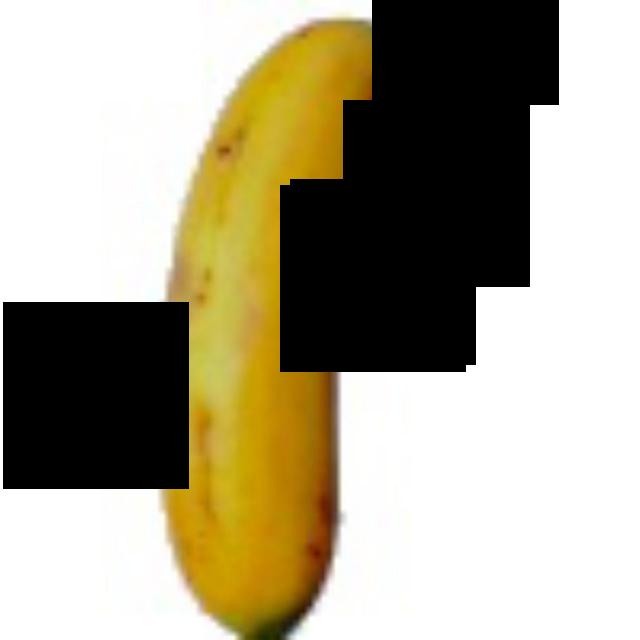banana: (102, 0, 531, 634)
